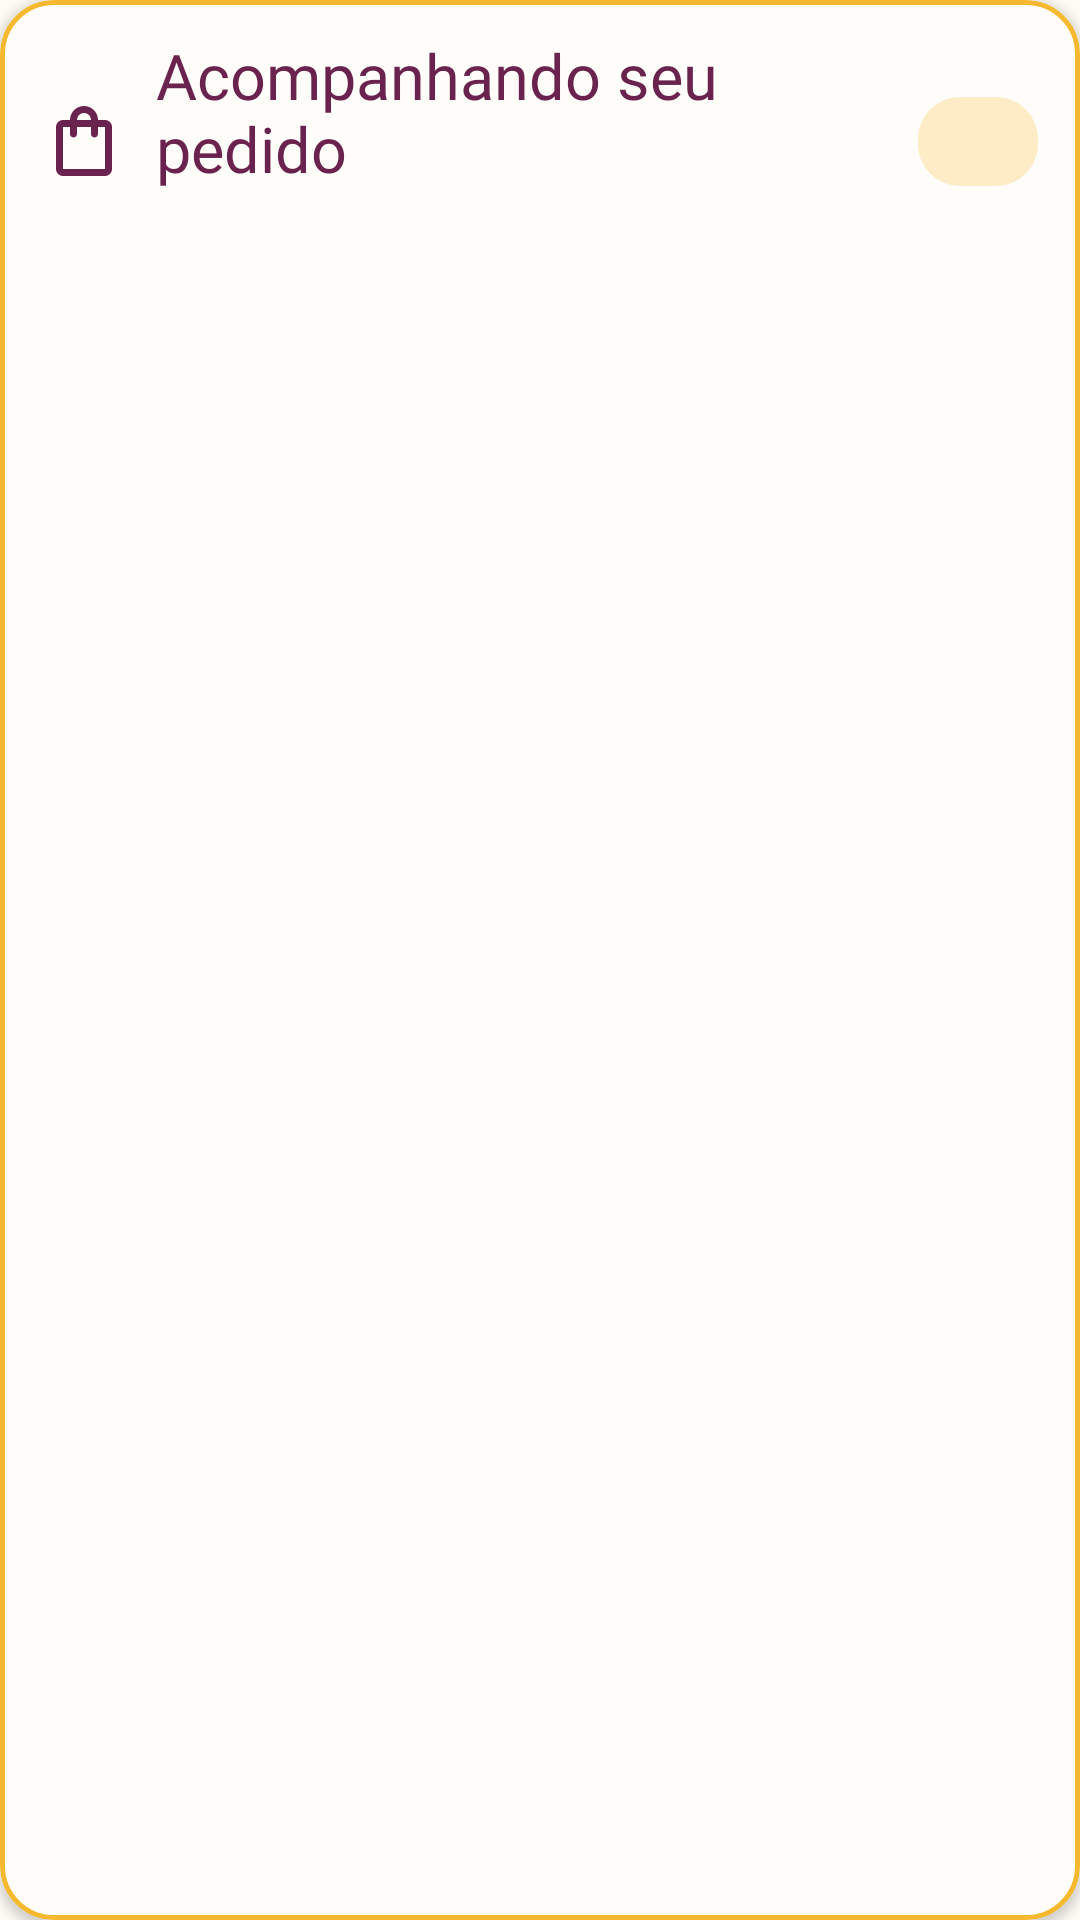

Where icons sit on this 1080w x 1920h app screen, as (left=x1, top=y1, right=x2, bottom=y2):
home sacola: (left=56, top=106, right=112, bottom=176)
